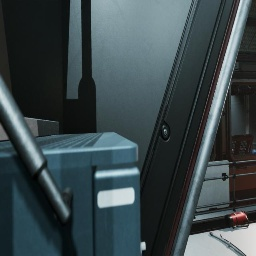FireExtinguisher ]: (224, 210, 249, 229)
